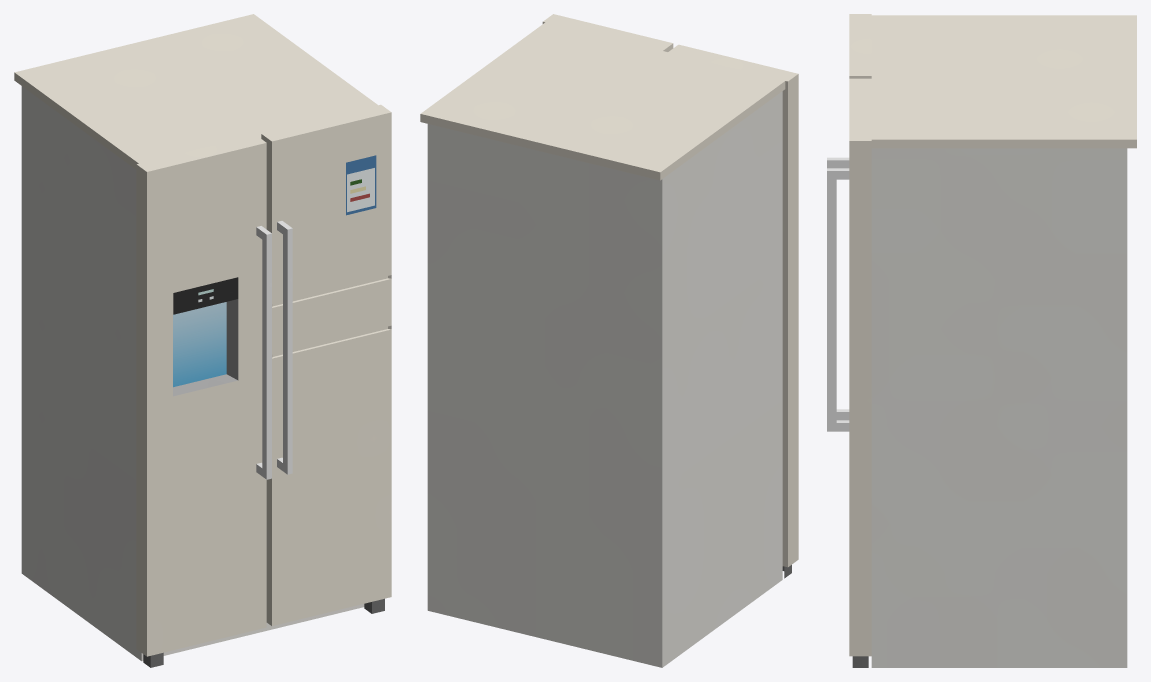
File: SM_Fridge_01.fbx
3 views of the same model, side by side, from view 1: azimuth 30°, elevation 25°; view 2: azimuth 150°, elevation 25°; view 3: azimuth 270°, elevation 25° (orthographic). The views are drawn at different scales.
Parts seen in each view (by area): view 1: SM_Fridge_01; view 2: SM_Fridge_01; view 3: SM_Fridge_01.
Boxes of the visible parts, box(x1,y1,x2,y2) form: SM_Fridge_01: box(14, 14, 391, 667); SM_Fridge_01: box(420, 14, 798, 667); SM_Fridge_01: box(827, 14, 1136, 667).
Bounding box in the file's own units: 94 × 183 × 97.
